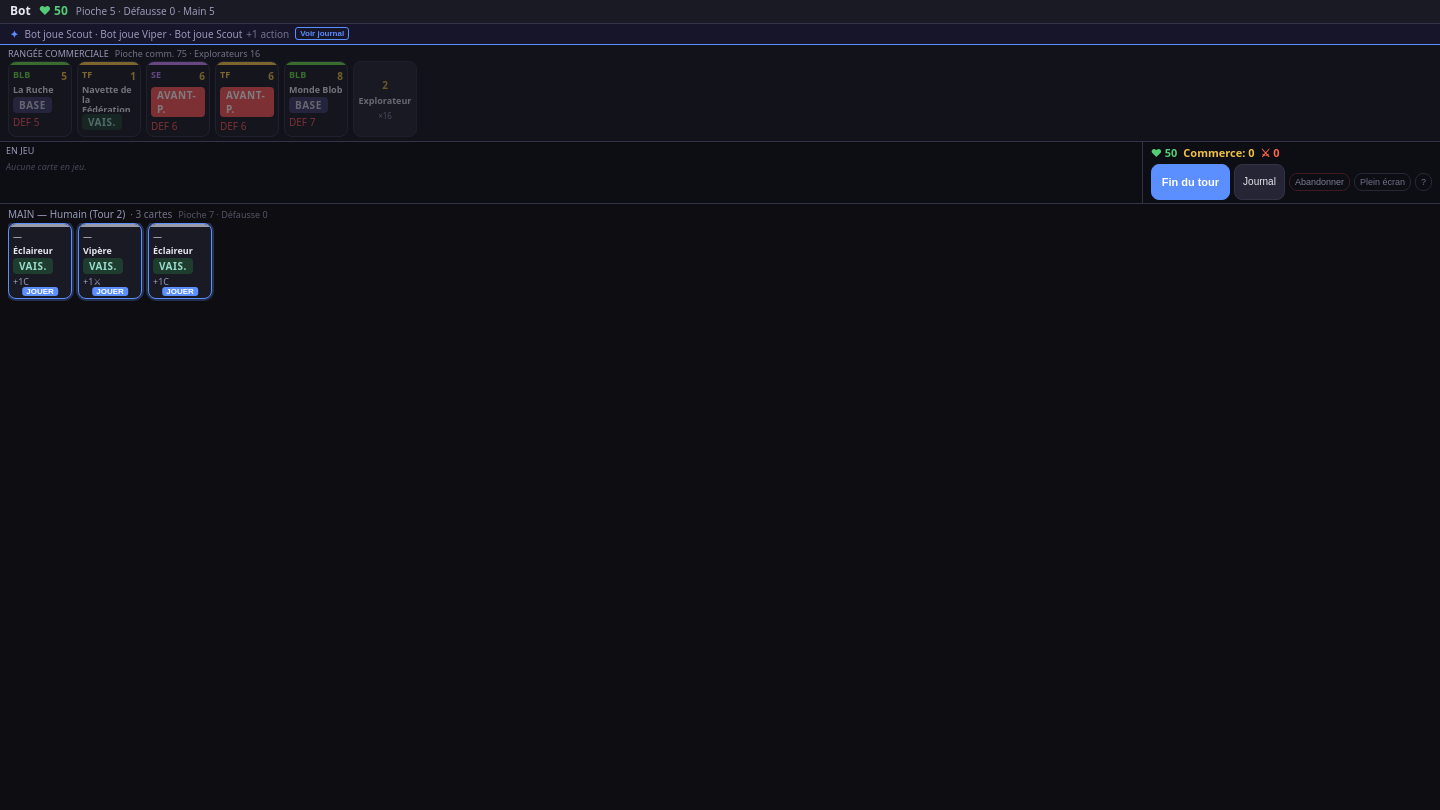
it: PATCH 0059 — A. Résumé bot détaillable (landscape) › Landscape : clic Voir journal ouvre le journal
Click the button "Voir journal": (322, 34) [295,27,349,40]
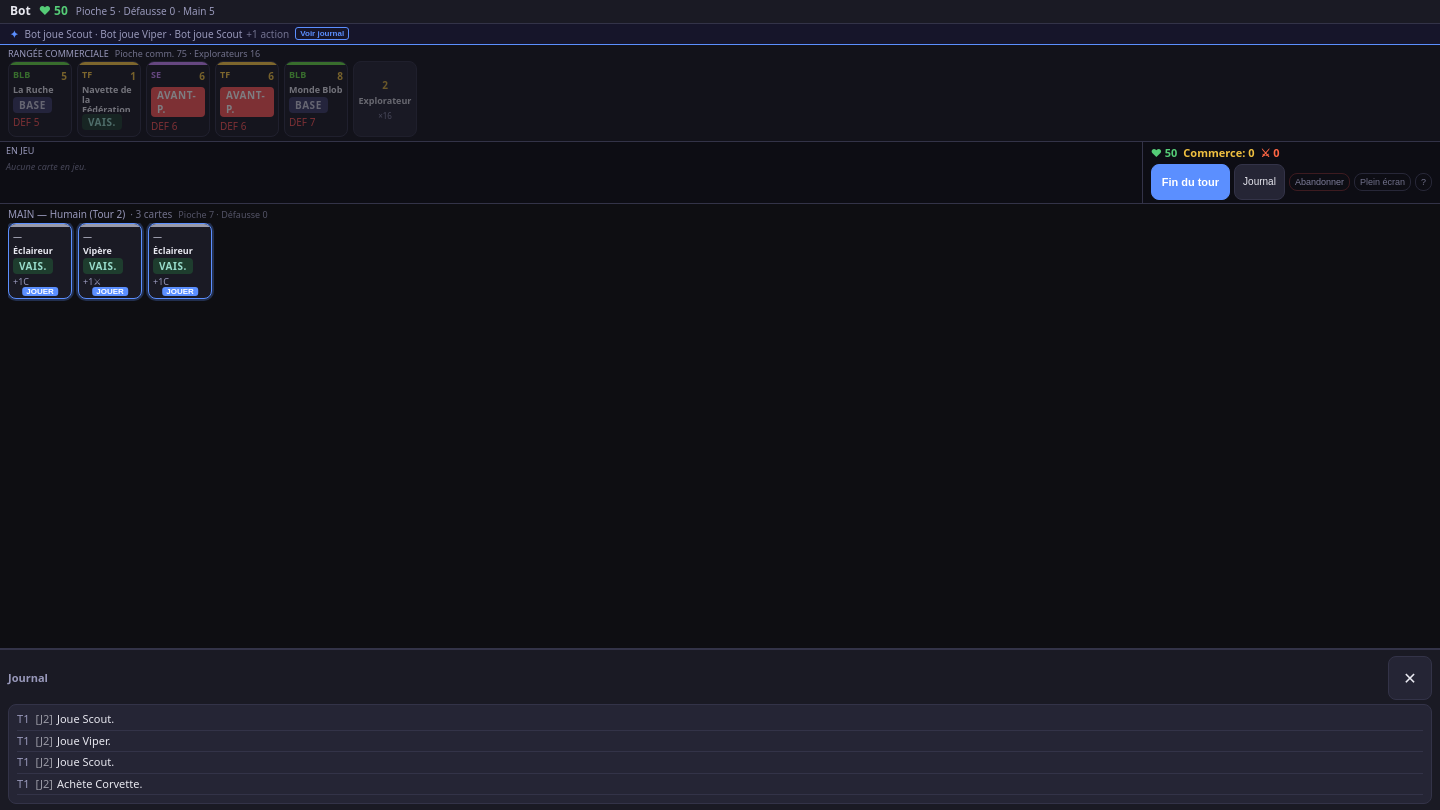
Now the button named "Fermer le journal" is shown, box [1388,656,1432,700]
